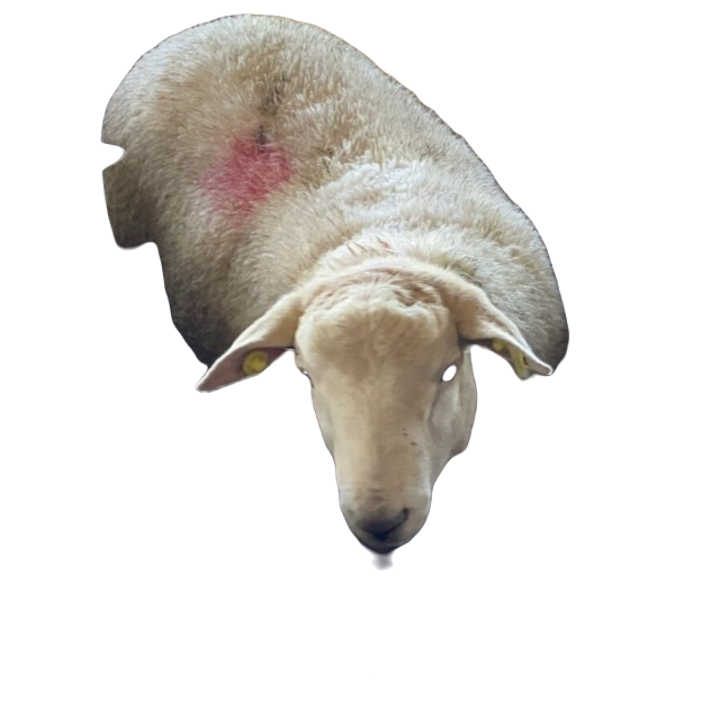Sheep: (93, 8, 576, 559)
